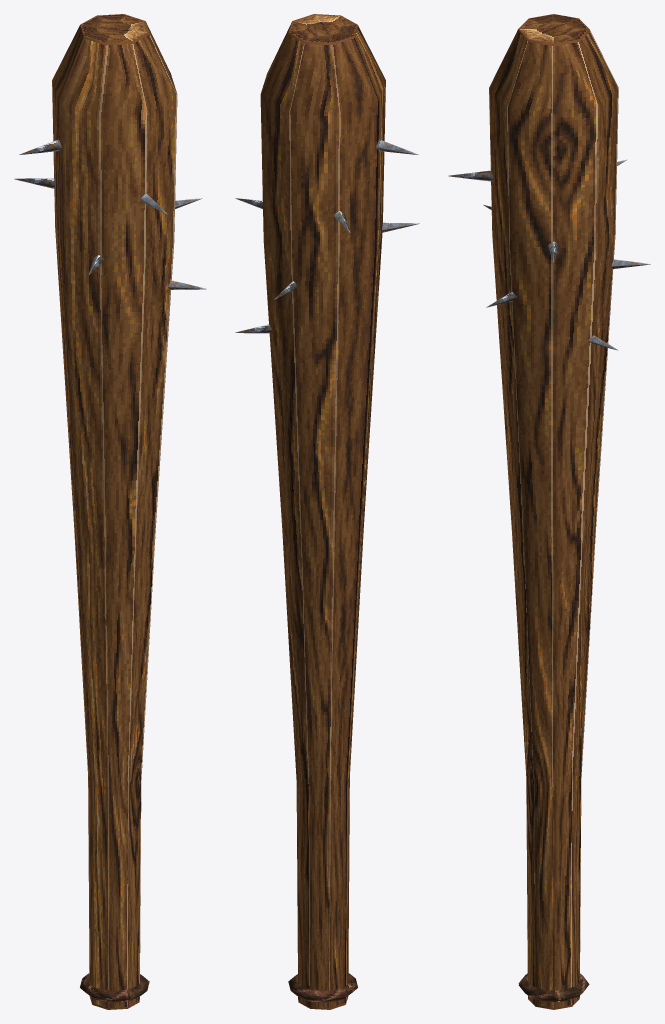
The model's file is nail_club.glb.
3 renders of one model, left to right at view 1: azimuth 30°, elevation 25°; view 2: azimuth 150°, elevation 25°; view 3: azimuth 270°, elevation 25°, orthographic.
Visible parts, largest first — view 1: nail_club; view 2: nail_club; view 3: nail_club.
Boxes of the visible parts, x1=… form: nail_club: x1=14, y1=14, x2=206, y2=1009; nail_club: x1=235, y1=14, x2=419, y2=1009; nail_club: x1=448, y1=14, x2=650, y2=1009.
Bounding box in the file's own units: 0.13 × 0.66 × 0.1246.
Materials: 1 (1 with a texture image).
